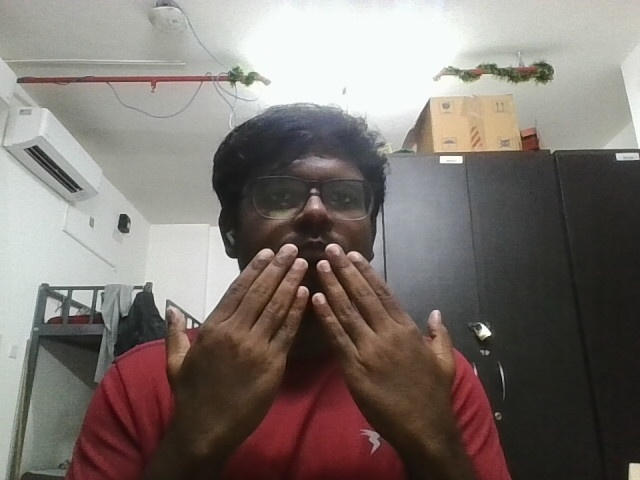Thanks: (157, 234, 490, 476)
